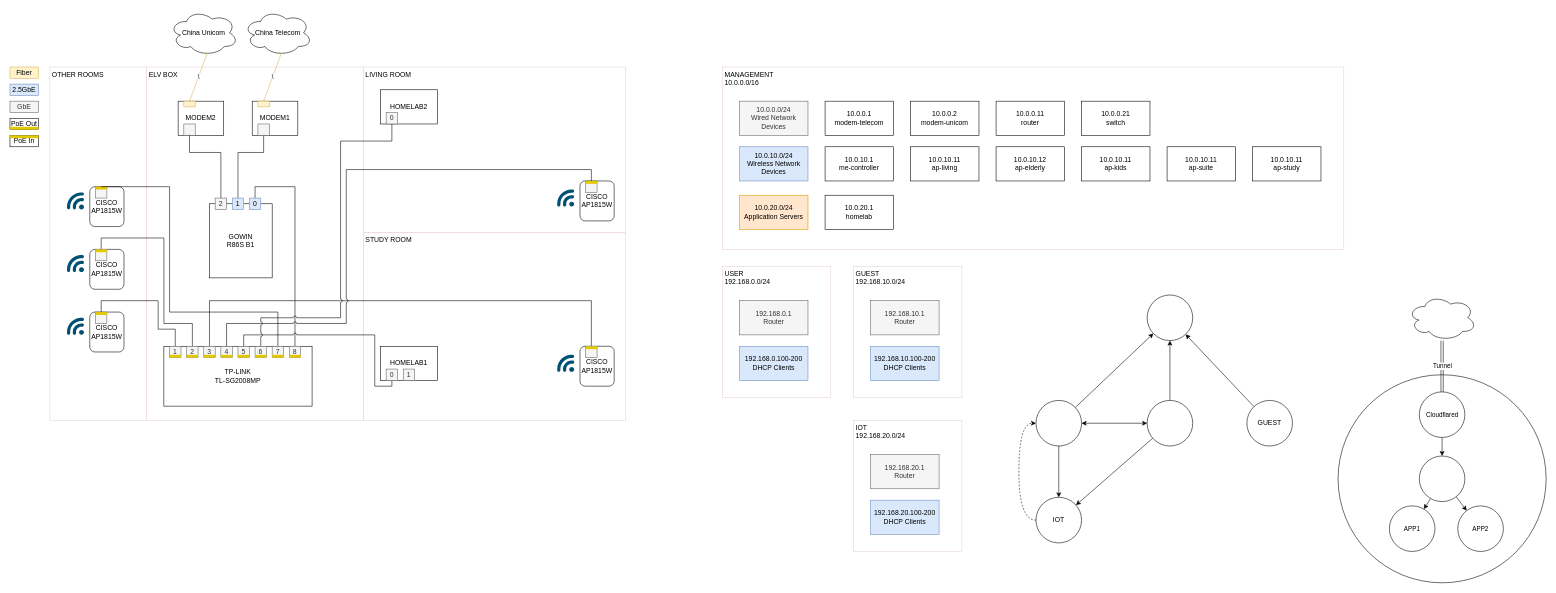
The diagram is 1556 pixels wide and 593 high, and some of its shapes have lost their labels. Here are the shapes that lost their labels. From the top down, the centre of each, then its label:
the point at 1170,317: INTERNET
the point at 1441,317: Cloudflare
the point at 1058,423: MGMT
the point at 1170,423: USER
the point at 1442,478: Traefik
